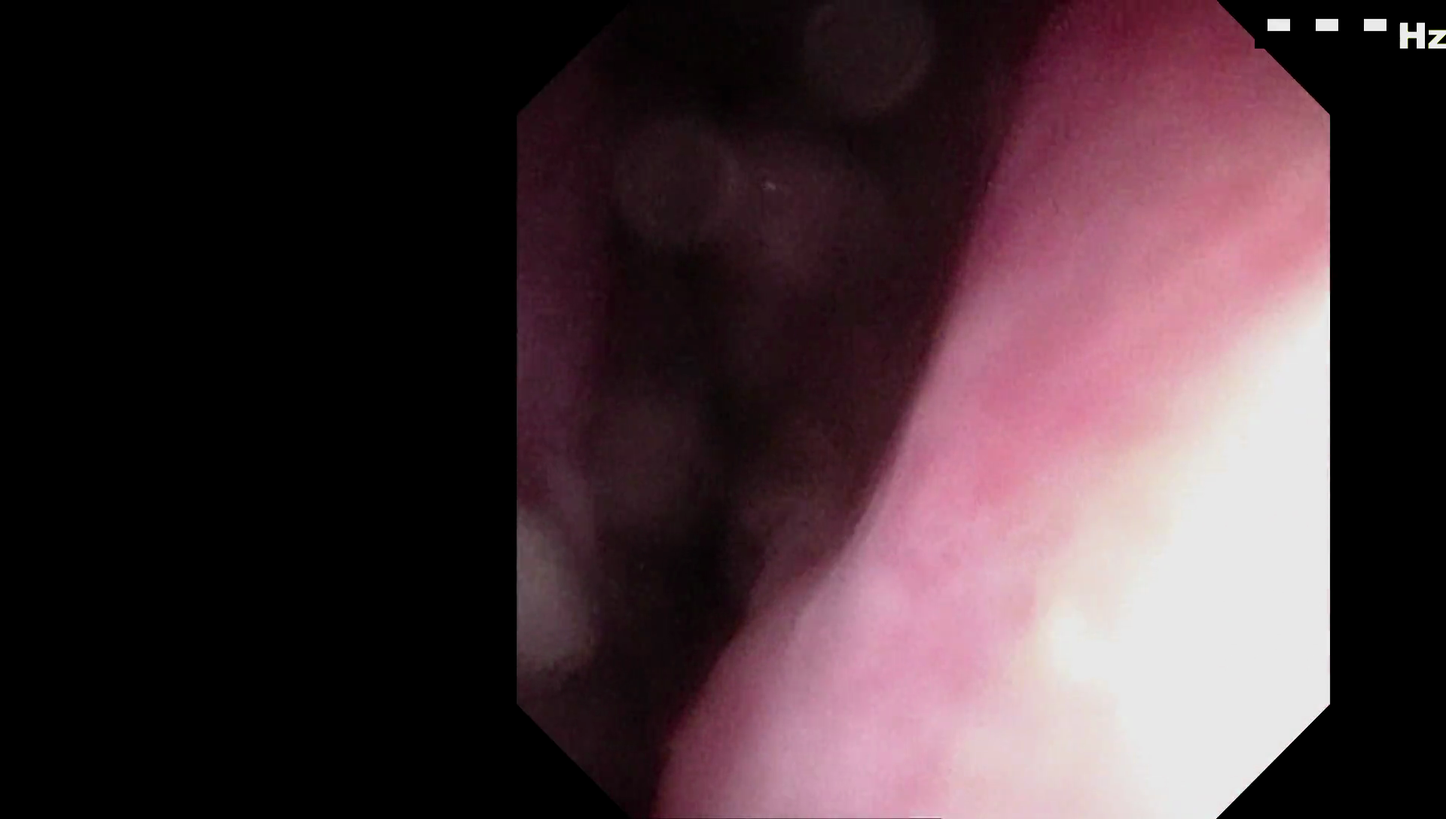close_wall: (953, 287, 1318, 711)
next: (560, 197, 809, 477), (572, 497, 798, 678), (600, 0, 824, 153)
